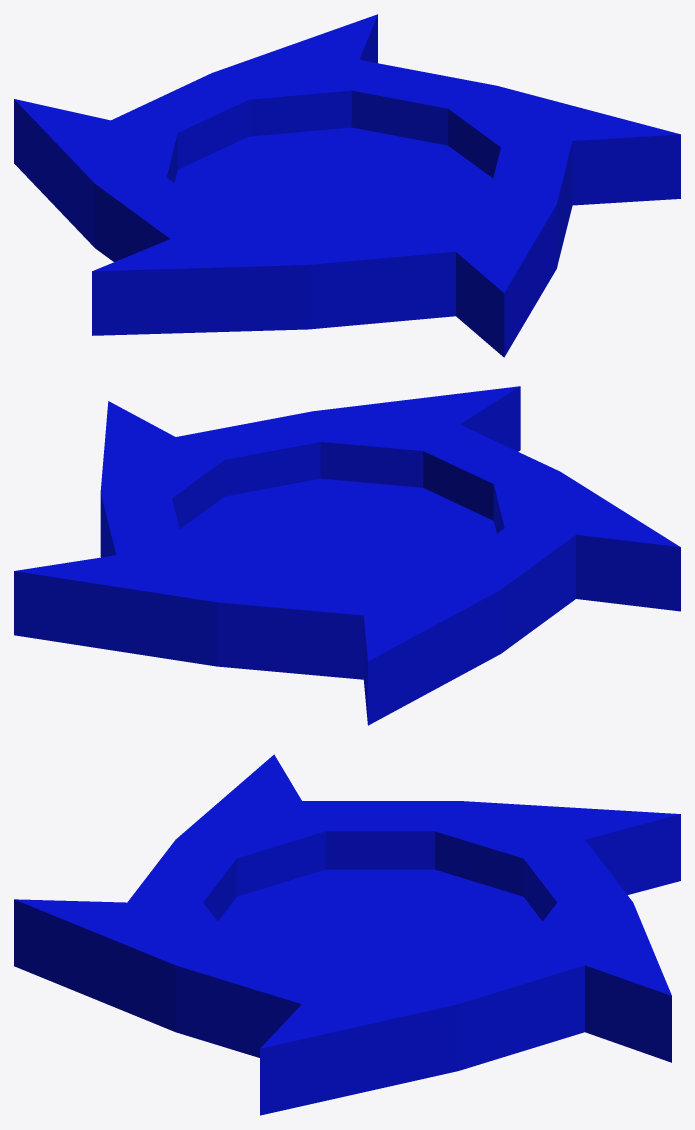
File: 1Disc.fbx
The picture shows the model from 3 angles, top to bottom: view 1: azimuth 30°, elevation 25°; view 2: azimuth 150°, elevation 25°; view 3: azimuth 270°, elevation 25°; orthographic projection. The views are drawn at different scales.
Parts seen in each view (by area): view 1: 1Disc; view 2: 1Disc; view 3: 1Disc.
Part boxes in pixels (<box>): 1Disc: <box>14,14,680,357</box>; 1Disc: <box>14,386,680,725</box>; 1Disc: <box>14,754,680,1115</box>.
Size of the model in its own units: 661 by 70.04 by 633.
